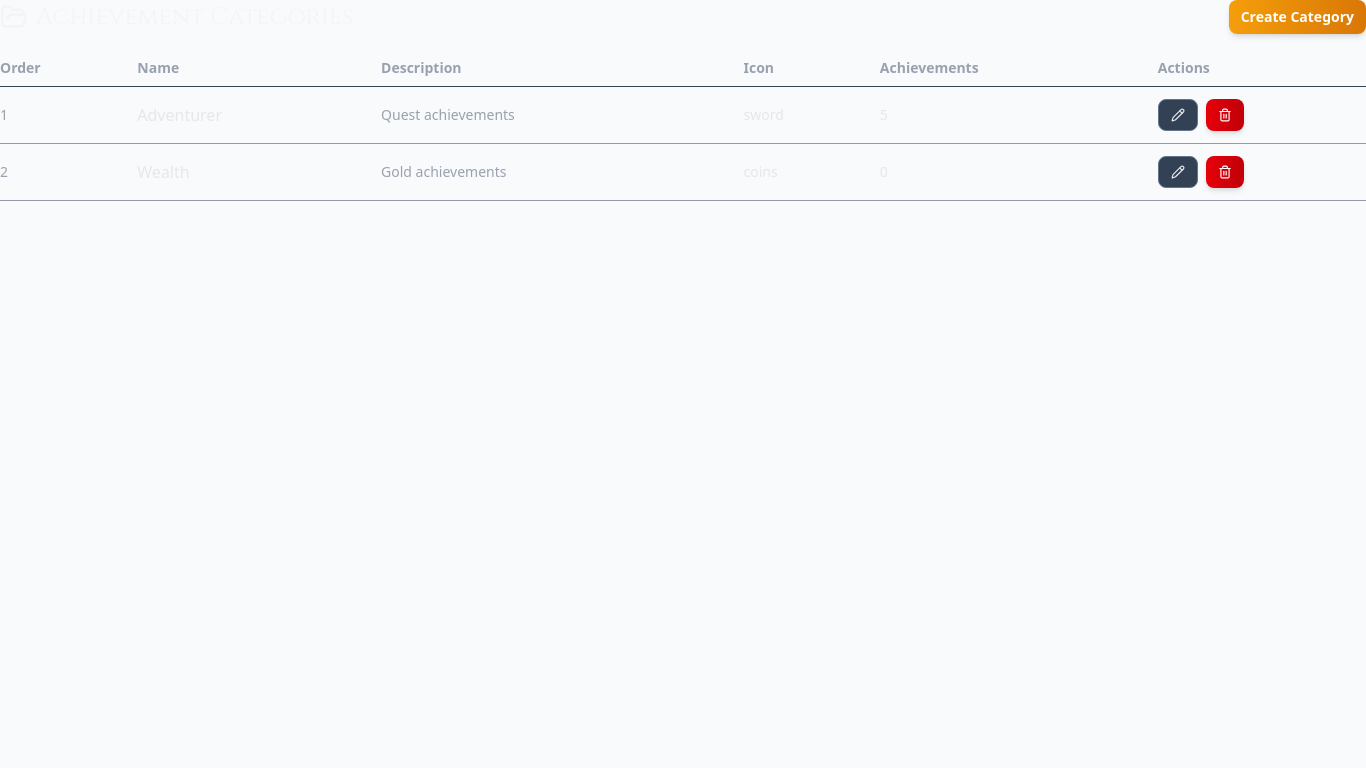
Test: AchievementCategoryAdmin › shows delete dialog when clicking delete button
Check: the text "Adventurer" is shown, box [137, 86, 381, 143]
Click the button with test id "delete-category-cat-1".
click(1225, 114)  # box [1206, 98, 1244, 130]
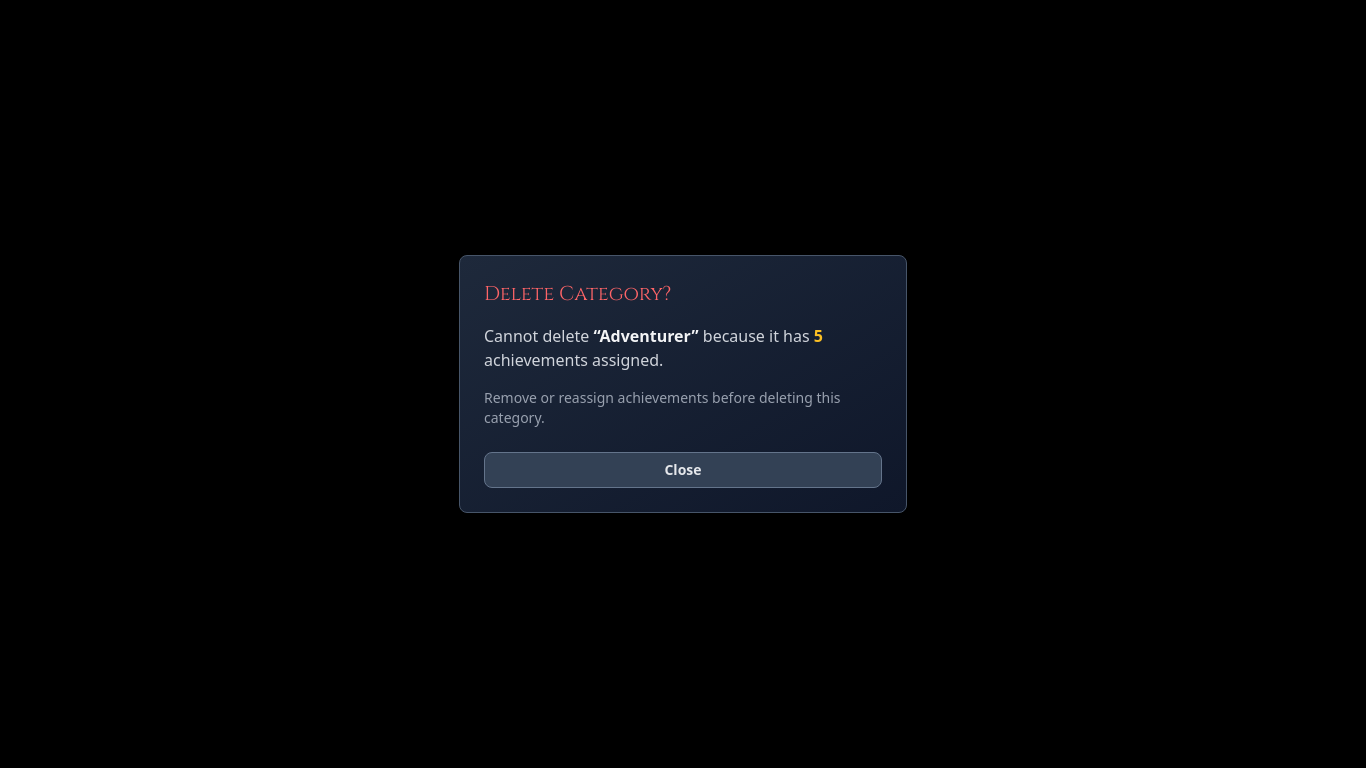
Check: the element with test id "delete-category-dialog" is shown, box [459, 255, 907, 513]
